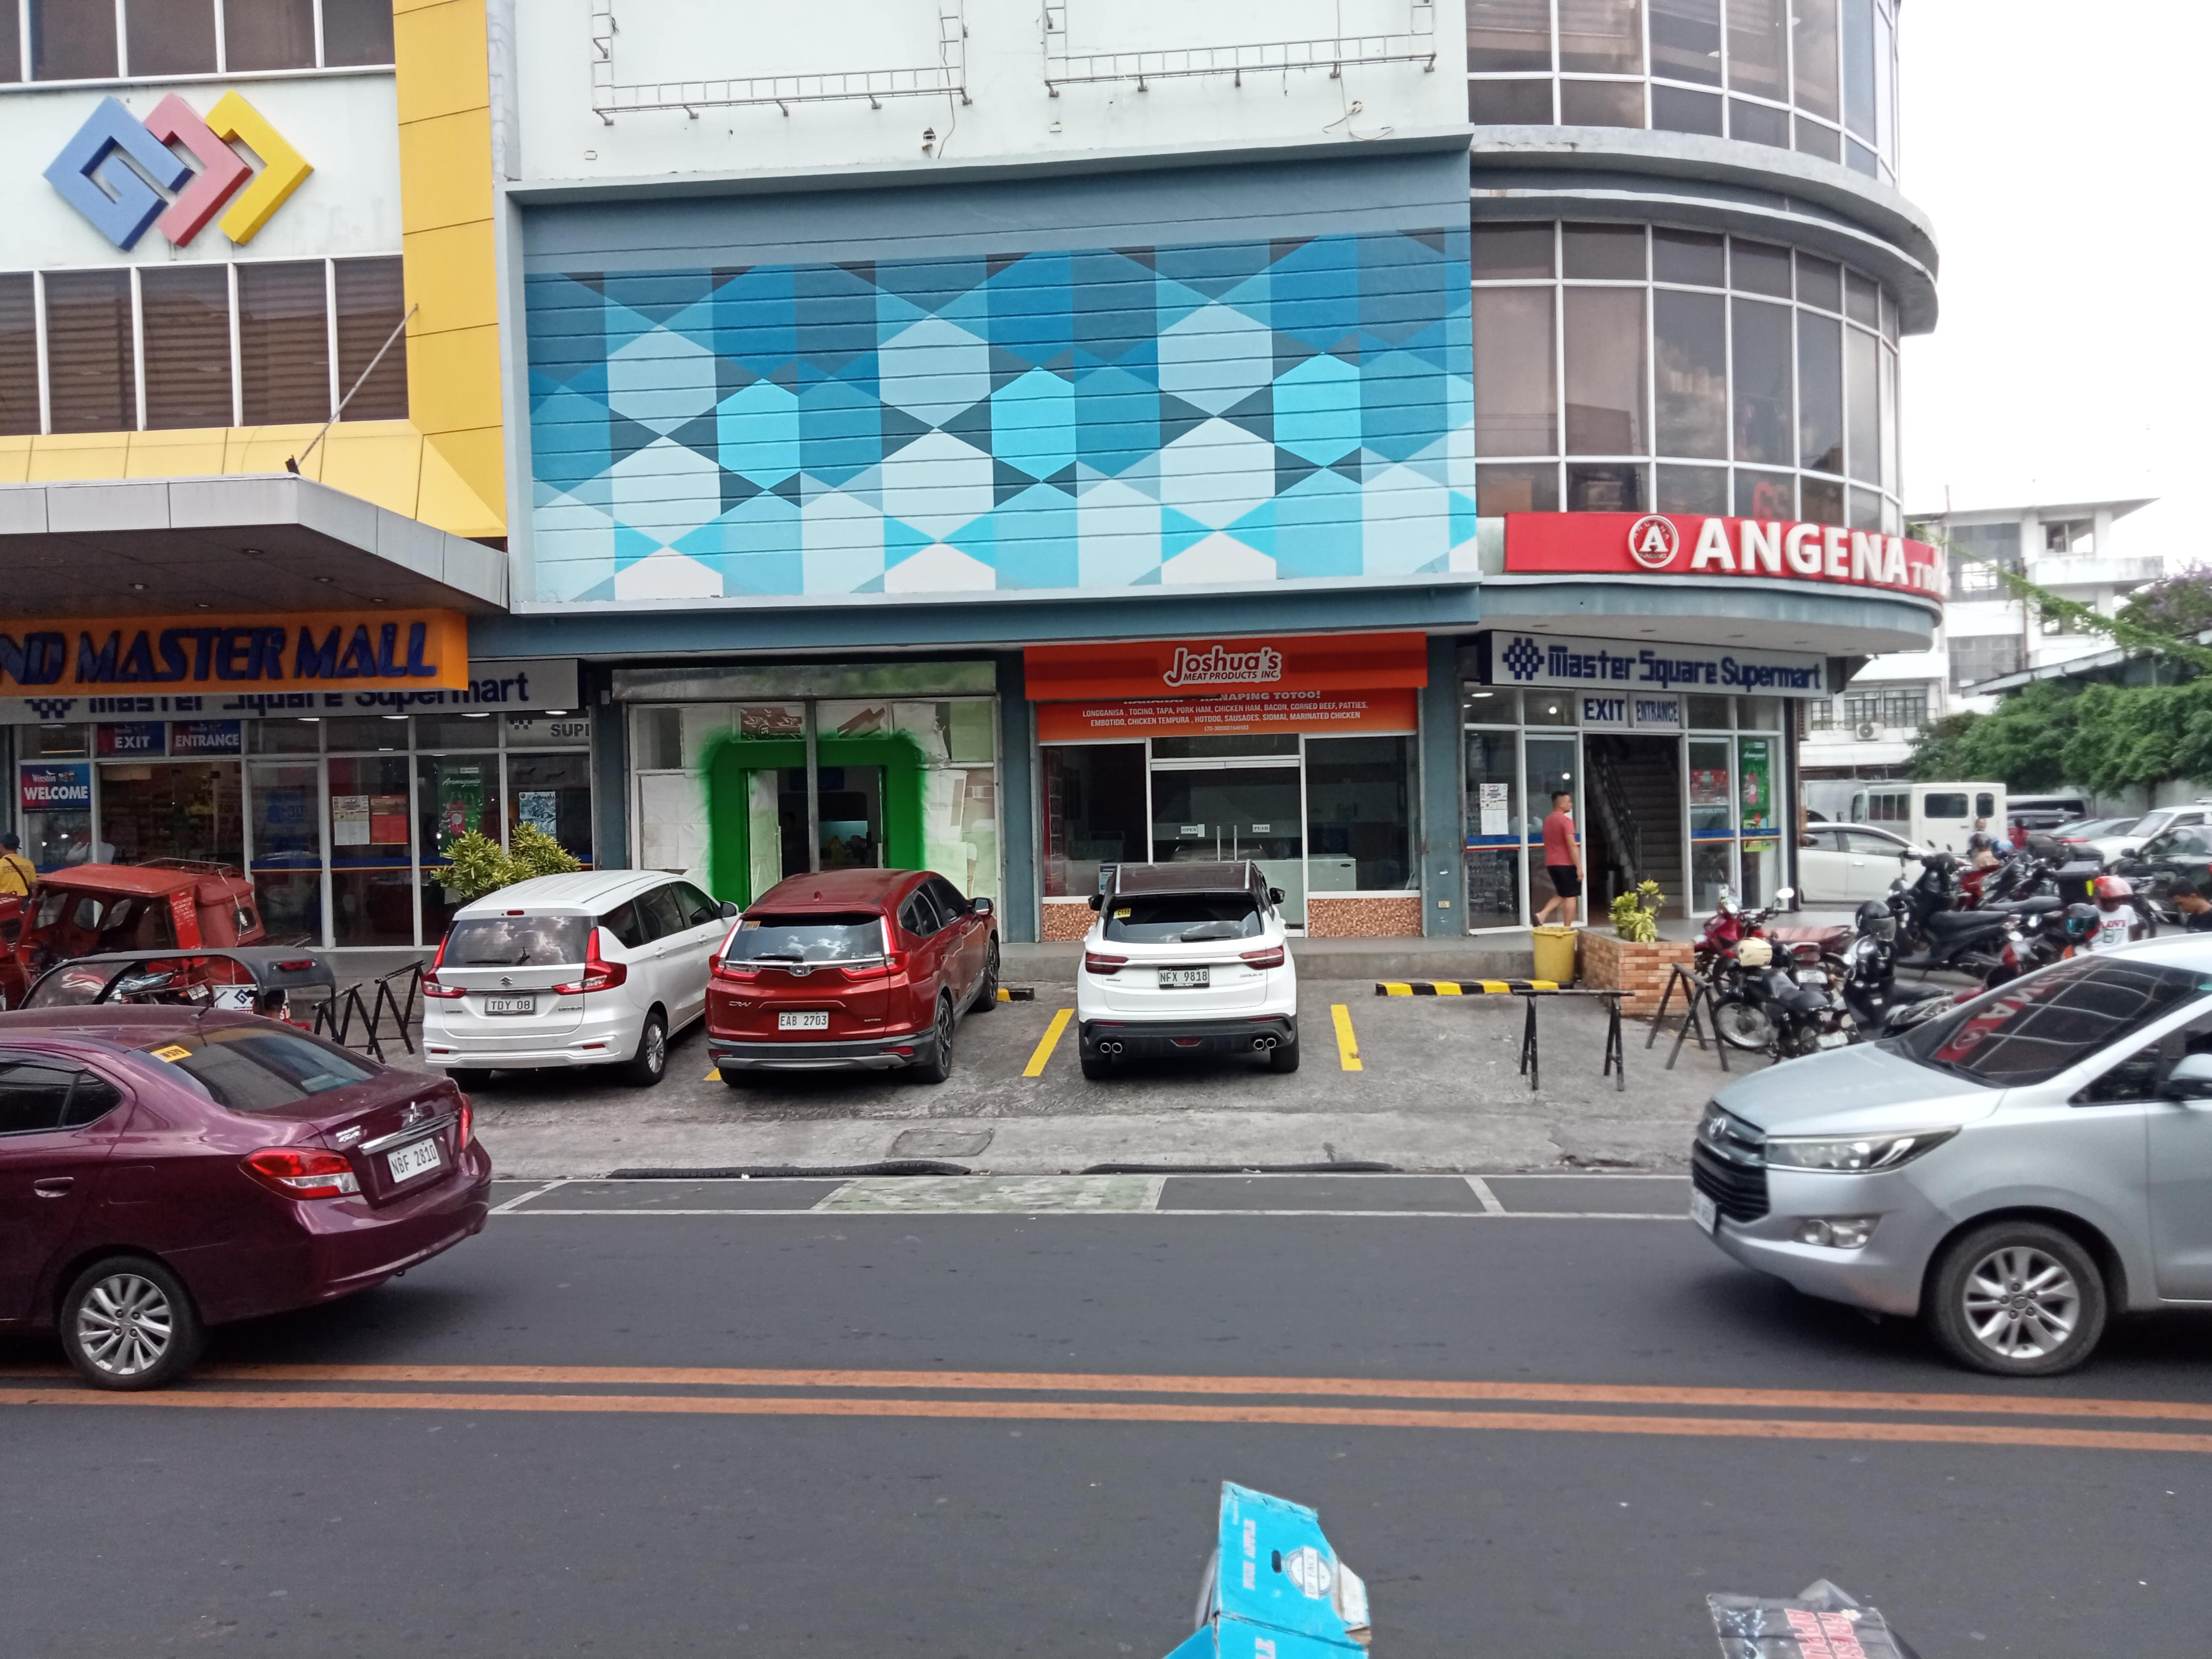occupied: (683, 986, 1101, 1089), (1005, 988, 1374, 1086)
vacant: (1322, 978, 1646, 1080), (1134, 1168, 1514, 1222), (472, 1175, 874, 1218)
